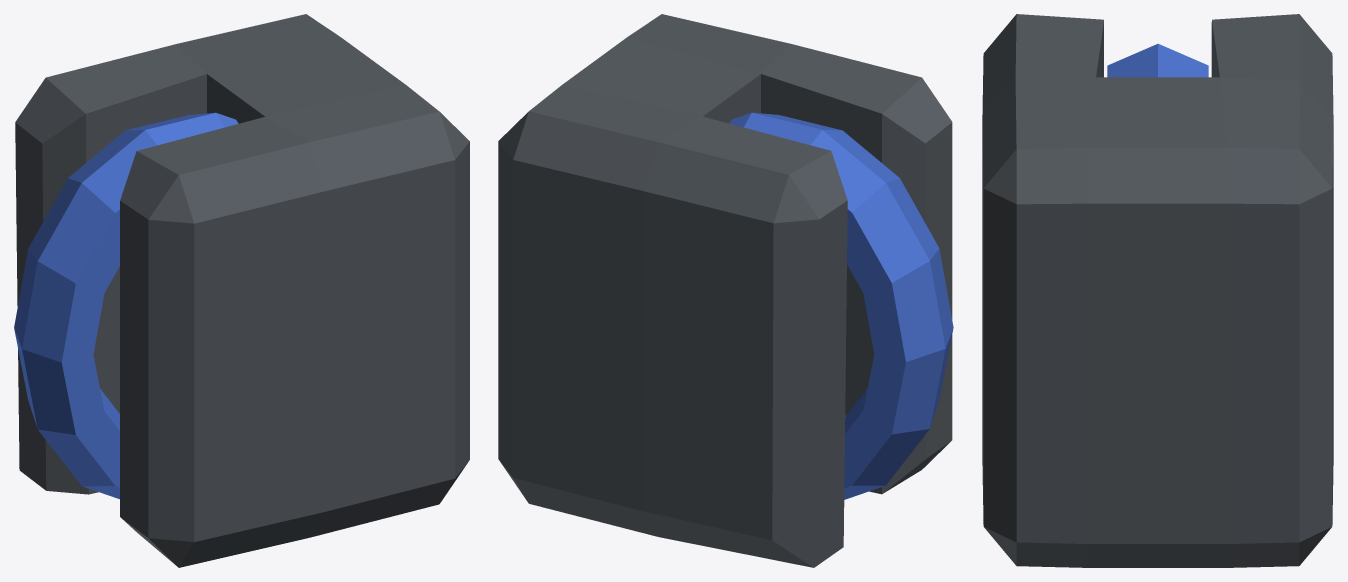
File: Mothership_02_Detail_9_Blue.fbx
3 views of the same model, side by side, from view 1: azimuth 30°, elevation 25°; view 2: azimuth 150°, elevation 25°; view 3: azimuth 270°, elevation 25° (orthographic). The views are drawn at different scales.
Visible parts, largest first — view 1: Mothership_02_Detail_9_Blue; view 2: Mothership_02_Detail_9_Blue; view 3: Mothership_02_Detail_9_Blue.
Boxes of the visible parts, <box> form: Mothership_02_Detail_9_Blue: <box>14,14,469,567</box>; Mothership_02_Detail_9_Blue: <box>498,14,953,567</box>; Mothership_02_Detail_9_Blue: <box>982,14,1333,567</box>.
Size of the model in its own units: 210 by 208 by 158.
Materials: 1 (1 with a texture image).
